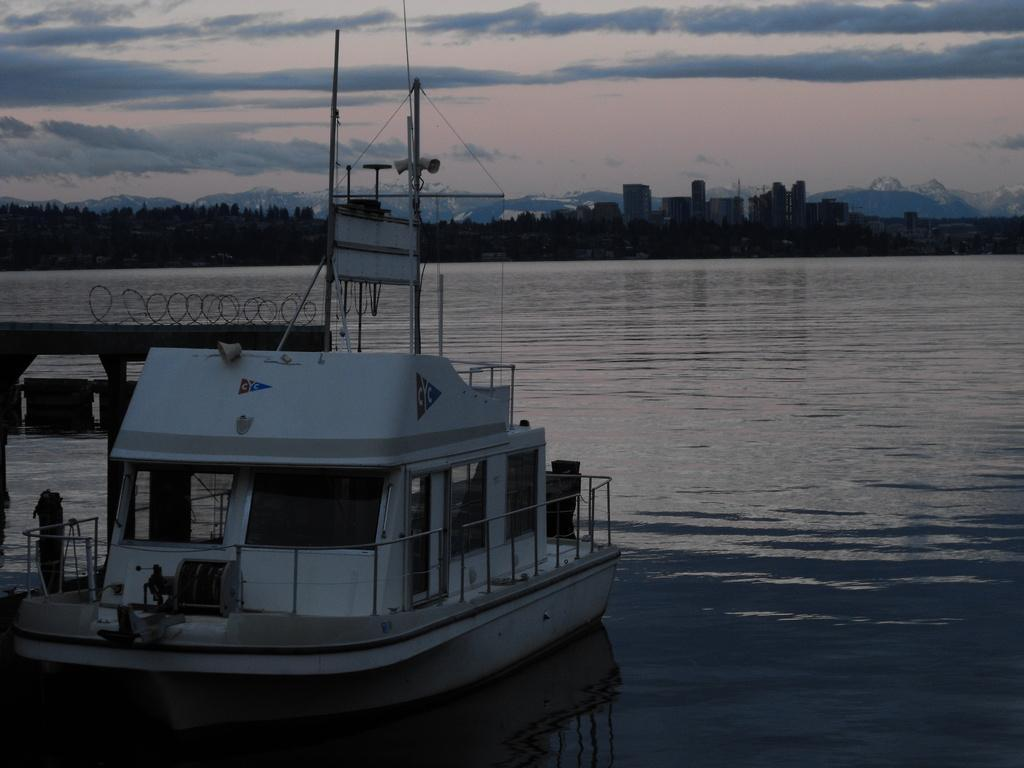PassengerShip: (2, 293, 628, 745)
